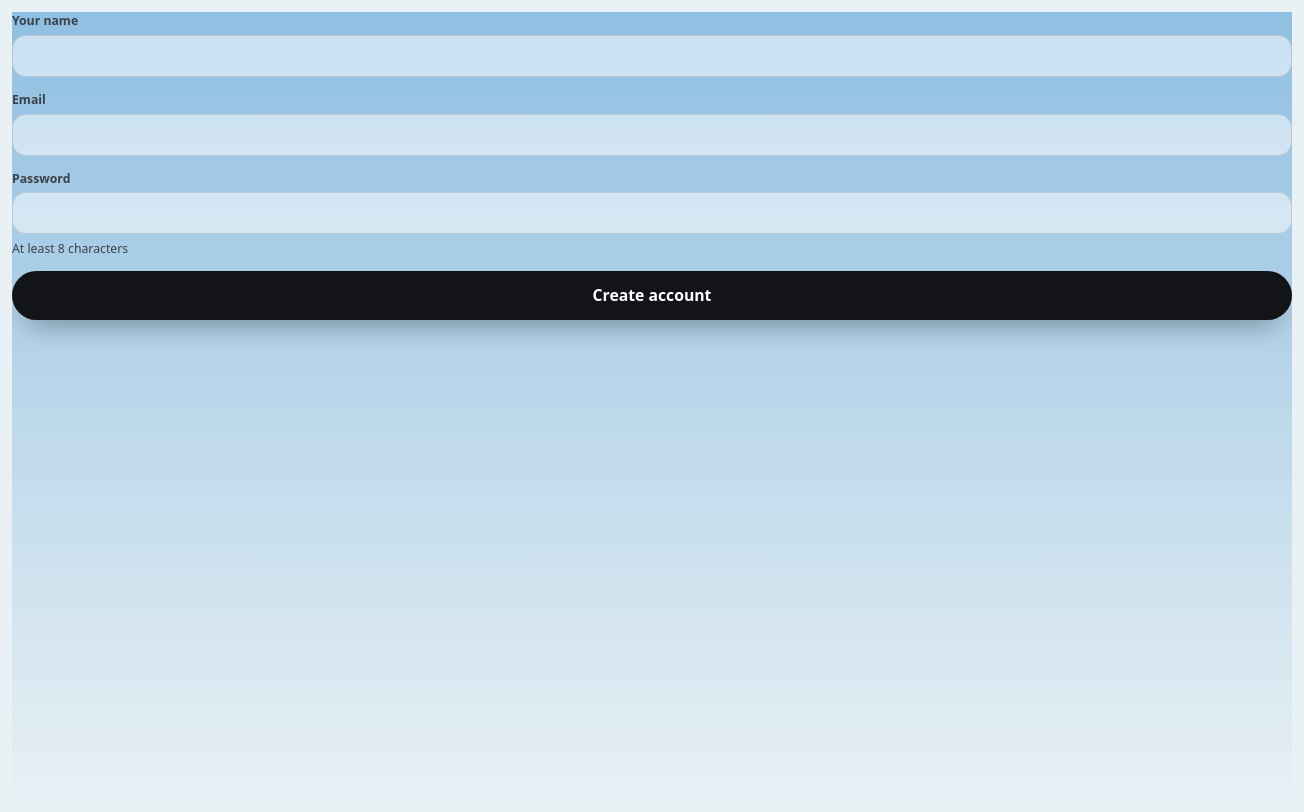
Scenario: SignupForm › requires a password of at least 8 characters
Type "Riya" into the field labelled "Your name" at (652, 56), box top-left (12, 35), bottom-right (1292, 77)
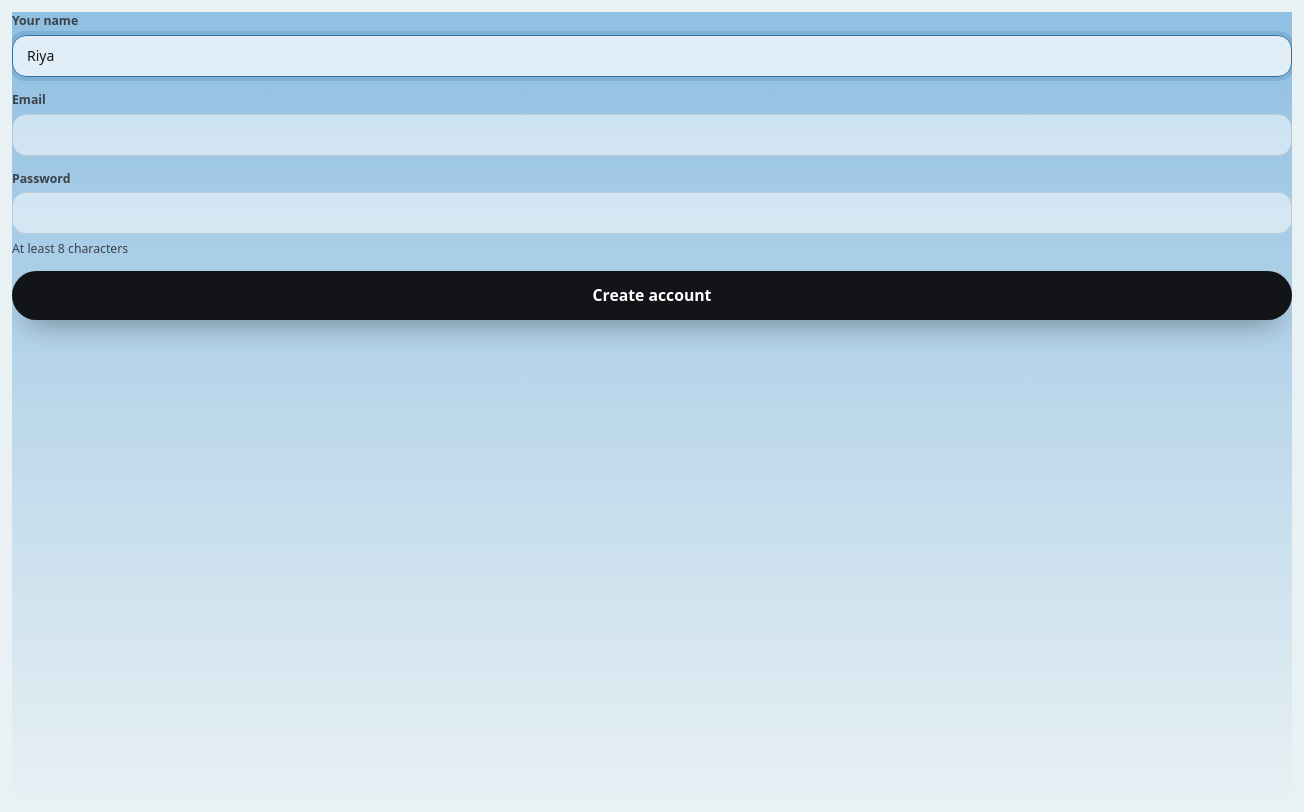
Type "riya@example.com" into the field labelled "Email" at (652, 134), box top-left (12, 114), bottom-right (1292, 156)
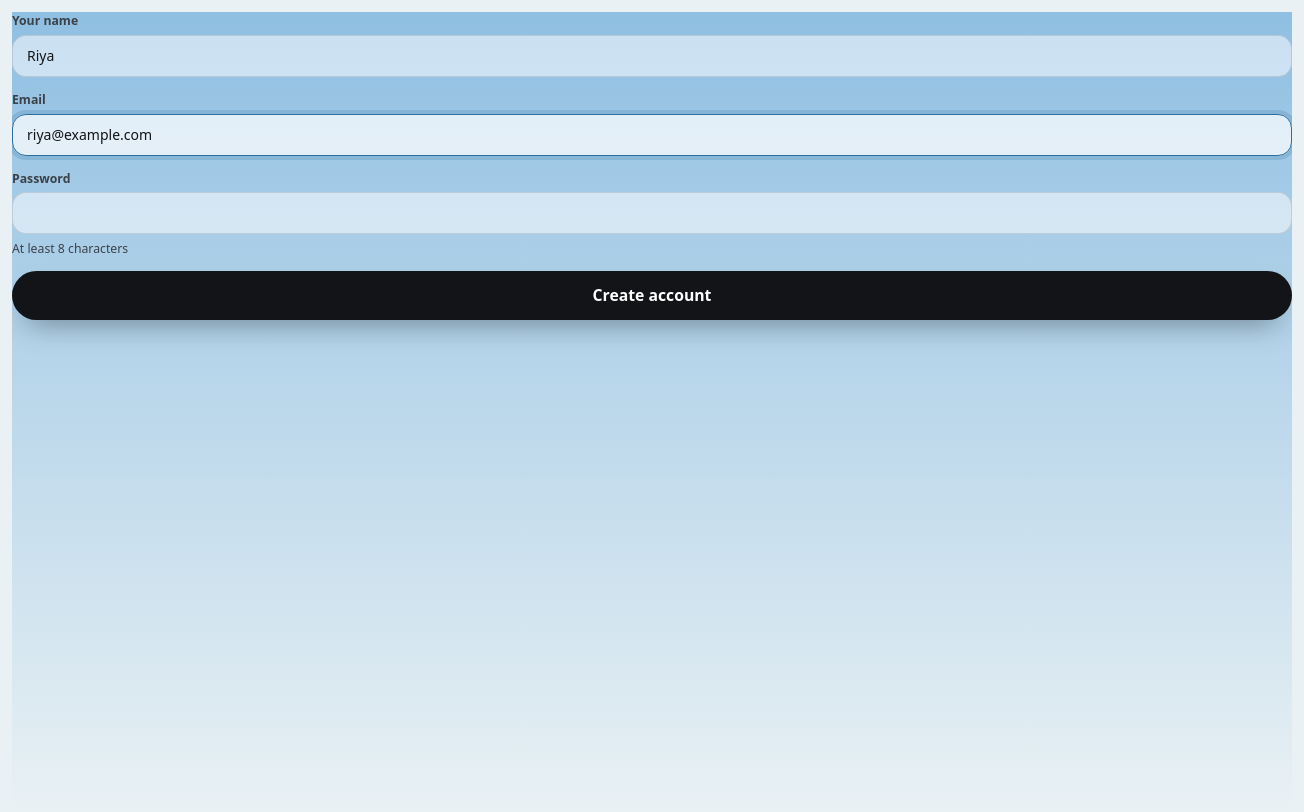
Type "short" into the password field labelled "Password" at (652, 213), box top-left (12, 192), bottom-right (1292, 234)
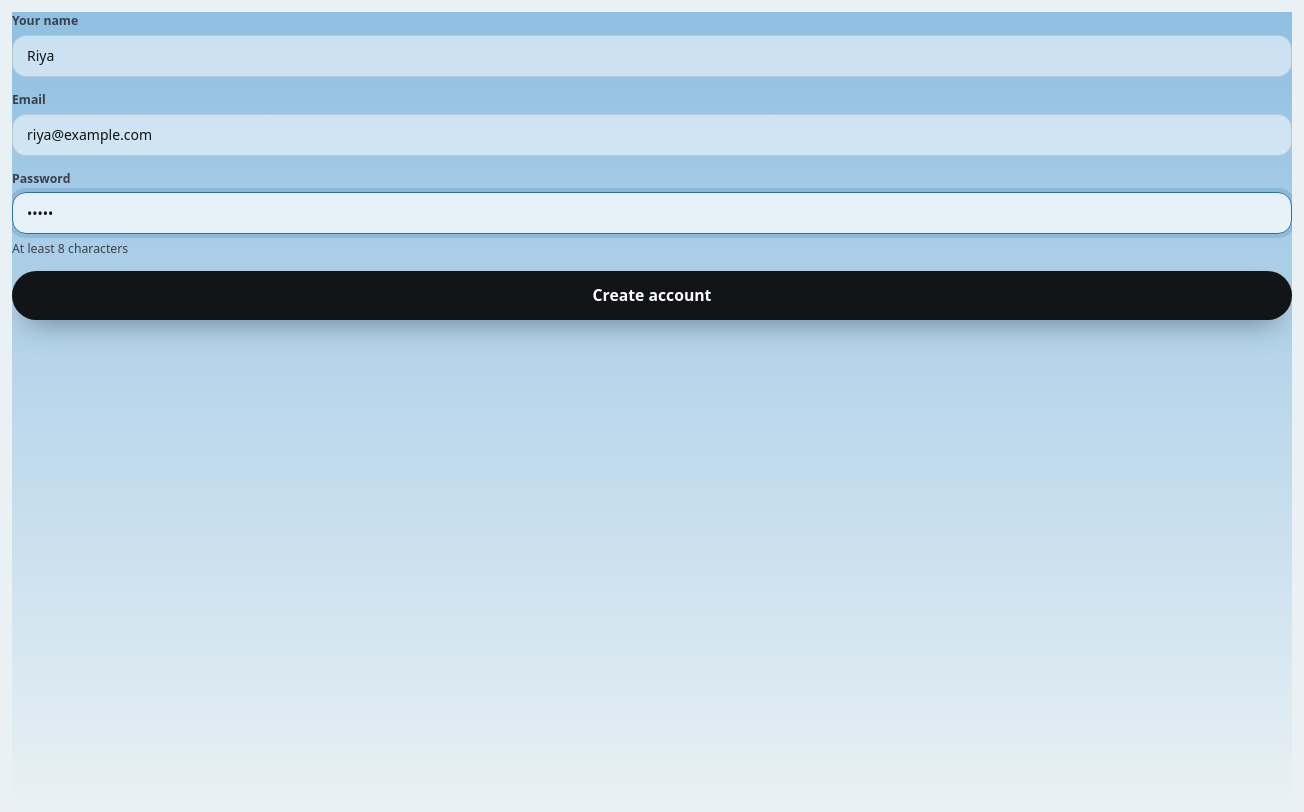
Click the button "Create account" at (652, 296), box top-left (12, 271), bottom-right (1292, 320)
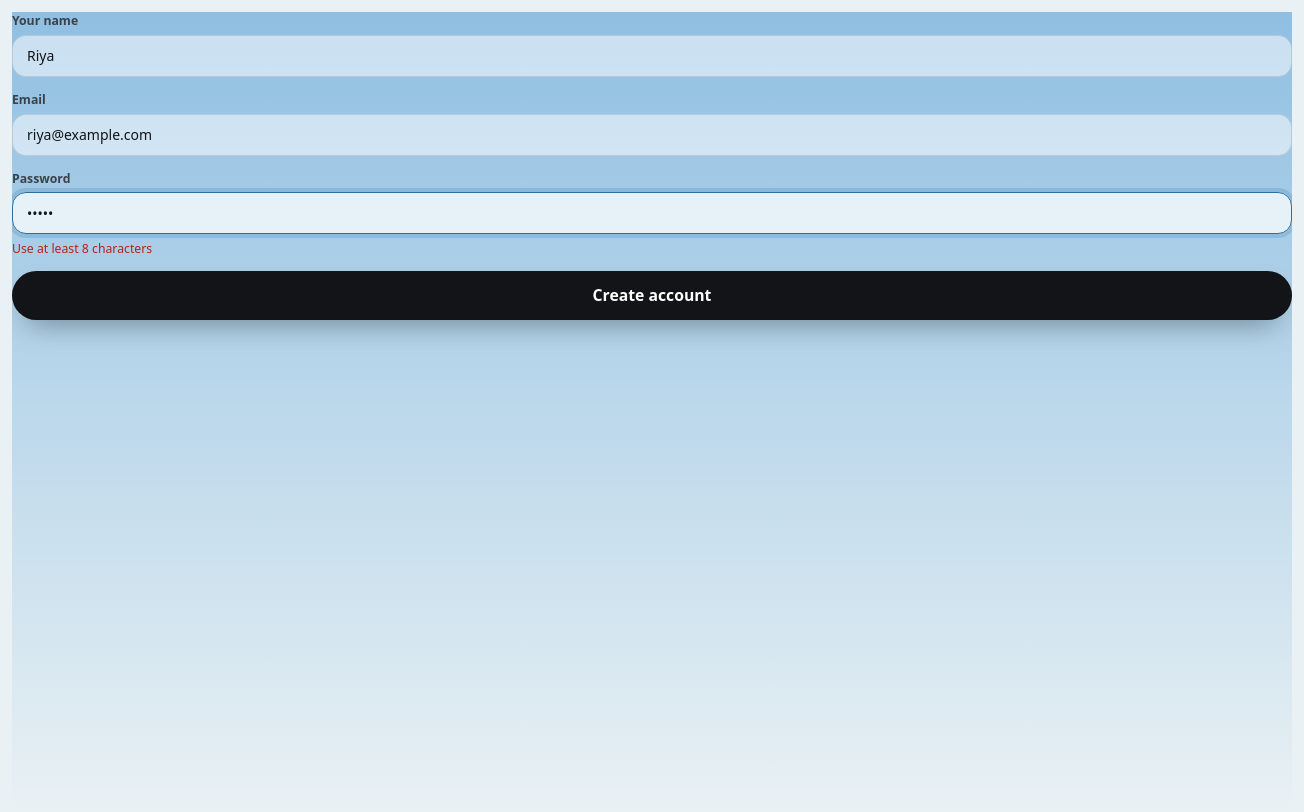
Expected: the text "Use at least 8 characters" is shown, top-left (12, 240), bottom-right (152, 256)
